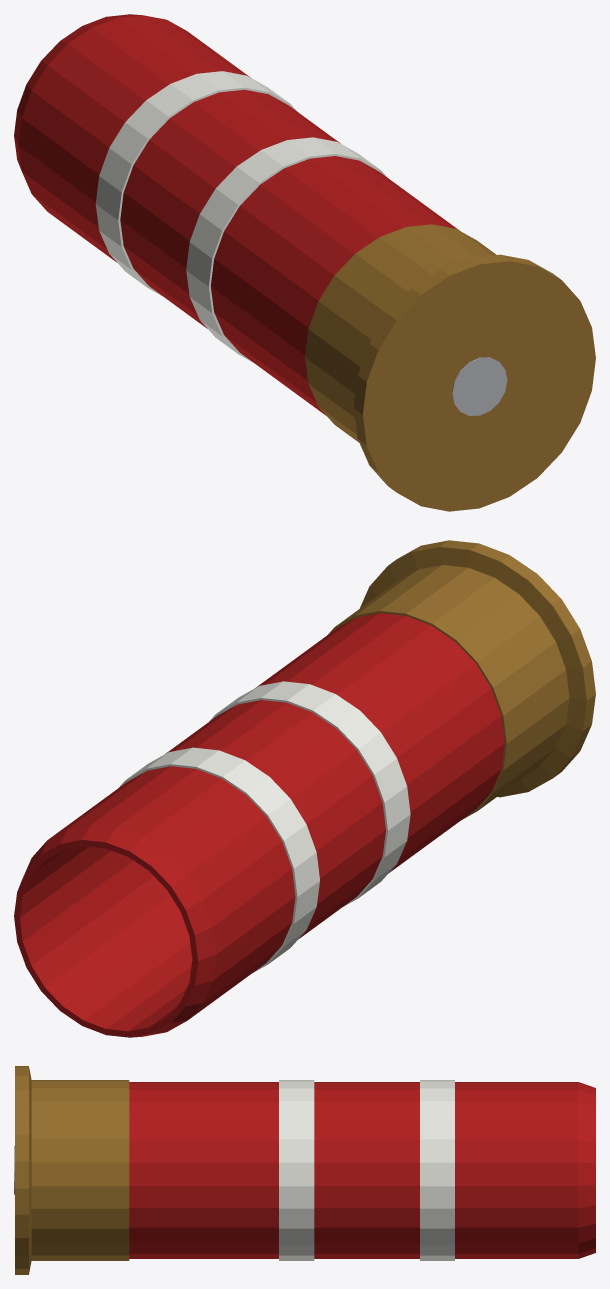
File: estojo_sinal.glb
3 views of the same model, one above another, from view 1: azimuth 30°, elevation 25°; view 2: azimuth 150°, elevation 25°; view 3: azimuth 270°, elevation 25° (orthographic). The views are drawn at different scales.
Visible parts, largest first — view 1: estojo_sinal_casco_vermelho, estojo_sinal_latao, estojo_sinal_tinta_branca, estojo_sinal_aco_inox; view 2: estojo_sinal_casco_vermelho, estojo_sinal_latao, estojo_sinal_tinta_branca; view 3: estojo_sinal_casco_vermelho, estojo_sinal_latao, estojo_sinal_tinta_branca.
Boxes of the visible parts, bbox=[...] form: estojo_sinal_casco_vermelho: bbox=[14, 14, 459, 415]; estojo_sinal_latao: bbox=[305, 224, 595, 511]; estojo_sinal_tinta_branca: bbox=[95, 71, 387, 362]; estojo_sinal_aco_inox: bbox=[452, 357, 507, 415]; estojo_sinal_casco_vermelho: bbox=[14, 613, 504, 1037]; estojo_sinal_latao: bbox=[328, 540, 595, 819]; estojo_sinal_tinta_branca: bbox=[119, 681, 410, 972]; estojo_sinal_casco_vermelho: bbox=[129, 1082, 595, 1258]; estojo_sinal_latao: bbox=[15, 1066, 129, 1274]; estojo_sinal_tinta_branca: bbox=[279, 1080, 454, 1260].
Size of the model in its own units: 0.0238 by 0.0238 by 0.0661.
